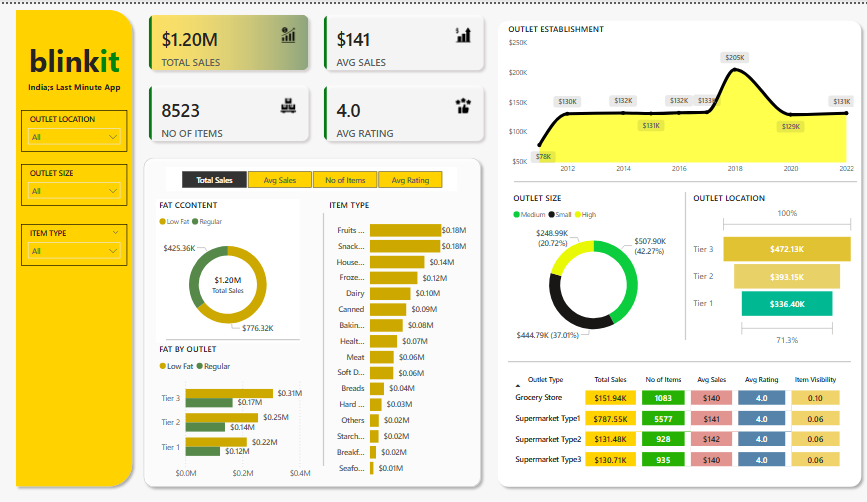

Layout of this report page (visuals, bound fields, positions):
{"tool":"powerbi","page":{"name":"Page 1","canvas":[1400,800],"ordinal":0},"visuals":[{"type":"shape","box":[17.3,0,204.7,781.1],"z":0},{"type":"textbox","box":[35,51.7,170,83.3],"z":1000},{"type":"textbox","box":[35,118.3,170,33.3],"z":2000},{"type":"cardVisual","fields":{"Data":["BlinkIT Grocery Data.Total Sales","BlinkIT Grocery Data.Avg Sales","BlinkIT Grocery Data.No of Items","BlinkIT Grocery Data.Avg Rating"]},"box":[222,0,570.1,236.2],"z":3000},{"type":"shape","box":[222,236.2,557.5,544.9],"z":4000},{"type":"donutChart","title":"FAT CCONTENT","fields":{"Y":["BlinkIT Grocery Data.Total Sales"],"Category":["BlinkIT Grocery Data.Item Fat Content"]},"box":[252,311.8,229.9,229.9],"z":5000},{"type":"slicer","fields":{"Values":["Metrics.Metrics"]},"box":[267.7,261.4,466.1,39.4],"z":6000},{"type":"cardVisual","fields":{"Data":["BlinkIT Grocery Data.Total Sales"]},"box":[315.2,416,102.4,57.6],"z":7000},{"type":"clusteredBarChart","title":"FAT BY OUTLET","fields":{"Y":["BlinkIT Grocery Data.Total Sales"],"Category":["BlinkIT Grocery Data.Outlet Location Type"],"Series":["BlinkIT Grocery Data.Item Fat Content"]},"box":[252,541.7,255.1,226.8],"z":8000},{"type":"clusteredBarChart","title":"ITEM TYPE","fields":{"Y":["BlinkIT Grocery Data.Total Sales"],"Category":["BlinkIT Grocery Data.Item Type"]},"box":[523.2,312,228.8,456],"z":9000},{"type":"shape","box":[789,17.3,600,763.8],"z":10000},{"type":"lineChart","title":"OUTLET ESTABLISHMENT","fields":{"Y":["BlinkIT Grocery Data.Total Sales"],"Category":["BlinkIT Grocery Data.Outlet Establishment Year"]},"box":[809.6,30.4,563.2,251.2],"z":11000},{"type":"donutChart","title":"OUTLET SIZE","fields":{"Y":["BlinkIT Grocery Data.Total Sales"],"Category":["BlinkIT Grocery Data.Outlet Size"]},"box":[817.6,300.8,267.2,252.8],"z":12000},{"type":"funnel","title":"OUTLET LOCATION","fields":{"Y":["BlinkIT Grocery Data.Total Sales"],"Category":["BlinkIT Grocery Data.Outlet Location Type"]},"box":[1105.6,300.8,267.2,252.8],"z":13000},{"type":"pivotTable","fields":{"Rows":["BlinkIT Grocery Data.Outlet Type"],"Values":["BlinkIT Grocery Data.Total Sales","BlinkIT Grocery Data.No of Items","BlinkIT Grocery Data.Avg Sales","BlinkIT Grocery Data.Avg Rating","BlinkIT Grocery Data.Item  Visibility"]},"box":[816,584,545.6,184],"z":14000},{"type":"shape","box":[267.2,508.8,214.4,56],"z":15000},{"type":"shape","box":[481.6,334.4,75.2,404.8],"z":16000},{"type":"shape","box":[824,256,548.8,56],"z":17000},{"type":"shape","box":[814.4,564.8,548.8,14.4],"z":18000},{"type":"shape","box":[1080,300.8,36.8,236.8],"z":19000},{"type":"slicer","fields":{"Values":["BlinkIT Grocery Data.Outlet Location Type"]},"box":[35.2,169.6,169.6,67.2],"z":20000},{"type":"slicer","fields":{"Values":["BlinkIT Grocery Data.Outlet Size"]},"box":[35.2,256,169.6,67.2],"z":21000},{"type":"slicer","fields":{"Values":["BlinkIT Grocery Data.Item Type"]},"box":[35.2,352,169.6,67.2],"z":22000}]}

Visuals, with their boxes in screenshot pixels (x1, y1, x2, y2), scaled from the page's 1400x800 canvas onto the 867x502 screenshot:
shape: l=11, t=0, r=137, b=490
textbox: l=22, t=32, r=127, b=85
textbox: l=22, t=74, r=127, b=95
cardVisual - BlinkIT Grocery Data.Total Sales x BlinkIT Grocery Data.Avg Sales: l=137, t=0, r=491, b=148
shape: l=137, t=148, r=483, b=490
"FAT CCONTENT" donutChart: l=156, t=196, r=298, b=340
slicer - Metrics.Metrics: l=166, t=164, r=454, b=189
cardVisual - BlinkIT Grocery Data.Total Sales: l=195, t=261, r=259, b=297
"FAT BY OUTLET" clusteredBarChart: l=156, t=340, r=314, b=482
"ITEM TYPE" clusteredBarChart: l=324, t=196, r=466, b=482
shape: l=489, t=11, r=860, b=490
"OUTLET ESTABLISHMENT" lineChart: l=501, t=19, r=850, b=177
"OUTLET SIZE" donutChart: l=506, t=189, r=672, b=347
"OUTLET LOCATION" funnel: l=685, t=189, r=850, b=347
pivotTable - BlinkIT Grocery Data.Outlet Type x BlinkIT Grocery Data.Total Sales: l=505, t=366, r=843, b=482
shape: l=165, t=319, r=298, b=354
shape: l=298, t=210, r=345, b=464
shape: l=510, t=161, r=850, b=196
shape: l=504, t=354, r=844, b=363
shape: l=669, t=189, r=692, b=337
slicer - BlinkIT Grocery Data.Outlet Location Type: l=22, t=106, r=127, b=149
slicer - BlinkIT Grocery Data.Outlet Size: l=22, t=161, r=127, b=203
slicer - BlinkIT Grocery Data.Item Type: l=22, t=221, r=127, b=263
